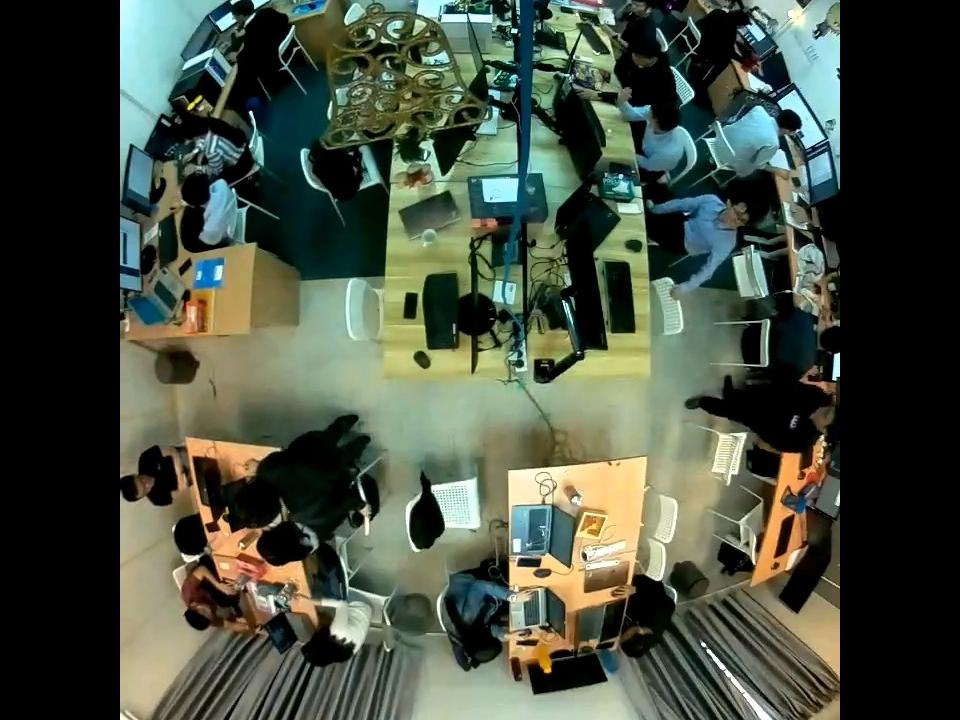name-tag: (788, 412, 802, 430)
